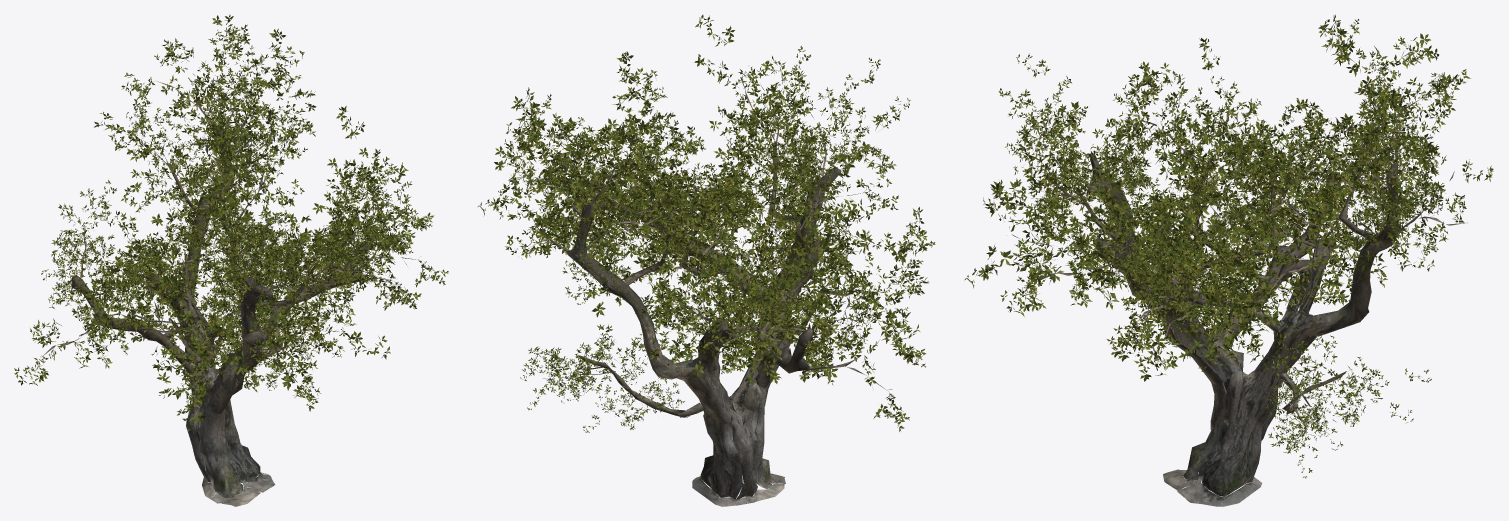
Rendered from island_tree_01.glb.
3 renders of one model, left to right at view 1: azimuth 30°, elevation 25°; view 2: azimuth 150°, elevation 25°; view 3: azimuth 270°, elevation 25°, orthographic. The views are drawn at different scales.
Visible parts, largest first — view 1: island_tree_01_LOD0; view 2: island_tree_01_LOD0; view 3: island_tree_01_LOD0.
Part boxes in pixels (x1,y1,x2,y2): island_tree_01_LOD0: (14,14,448,506); island_tree_01_LOD0: (478,15,935,506); island_tree_01_LOD0: (964,14,1493,506).
Bounding box in the file's own units: 7.09 × 7.5 × 7.19.
Materials: 3 (3 with a texture image).
